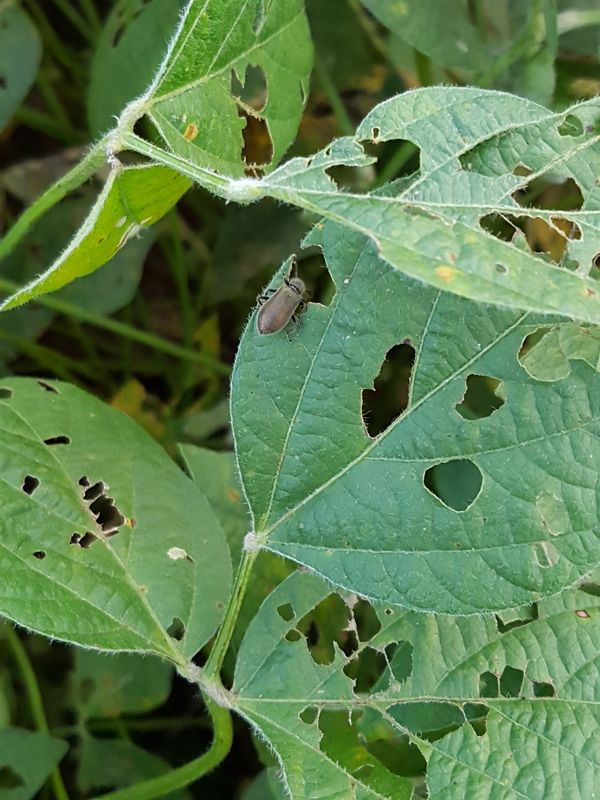Lagria_villosa: (240, 255, 320, 353)
